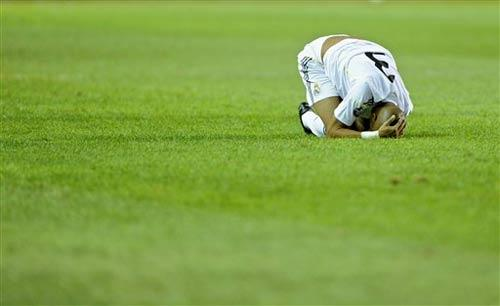fall: (289, 28, 421, 144)
